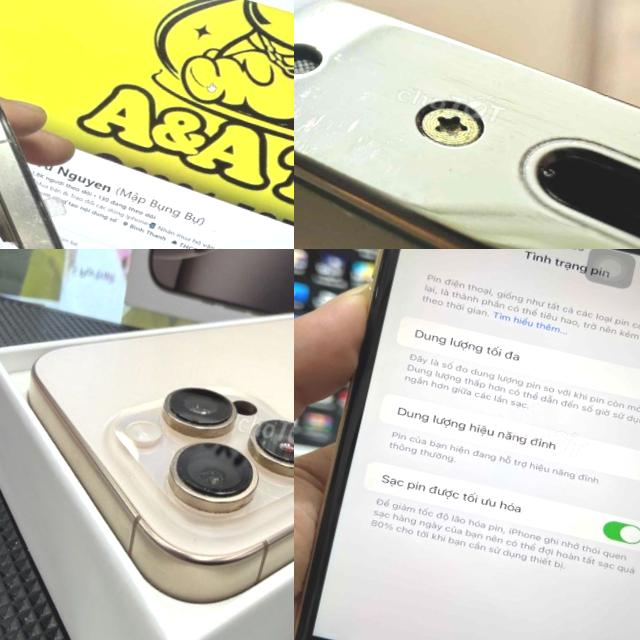gen_12_13: (294, 0, 640, 249)
gen_15: (0, 75, 176, 249)
gen_16: (0, 249, 294, 640)
gen_7_8: (294, 249, 640, 640)
scratch: (294, 0, 521, 236), (0, 183, 57, 242), (0, 99, 39, 158)
